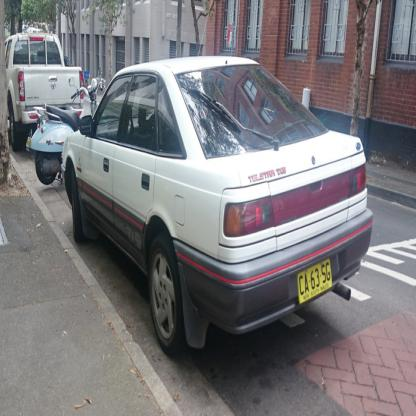Car: (58, 53, 372, 356)
Truck: (3, 30, 86, 126)
